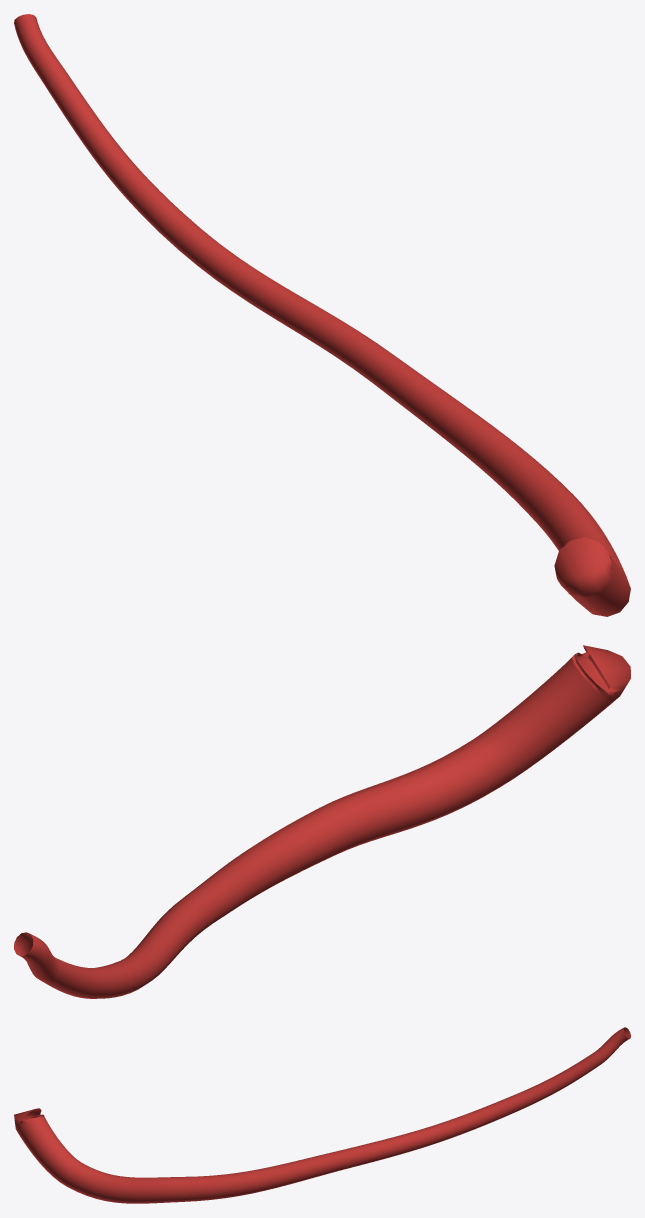
The picture shows the model from 3 angles, top to bottom: view 1: azimuth 30°, elevation 25°; view 2: azimuth 150°, elevation 25°; view 3: azimuth 270°, elevation 25°; orthographic projection. The views are drawn at different scales.
Parts seen in each view (by area): view 1: 肠系膜下动脉; view 2: 肠系膜下动脉; view 3: 肠系膜下动脉.
Boxes of the visible parts, x1=… form: 肠系膜下动脉: x1=14, y1=14, x2=630, y2=616; 肠系膜下动脉: x1=14, y1=645, x2=630, y2=998; 肠系膜下动脉: x1=14, y1=1027, x2=630, y2=1203.
Bounding box in the file's own units: 0.0211 × 0.0334 × 0.1288.
